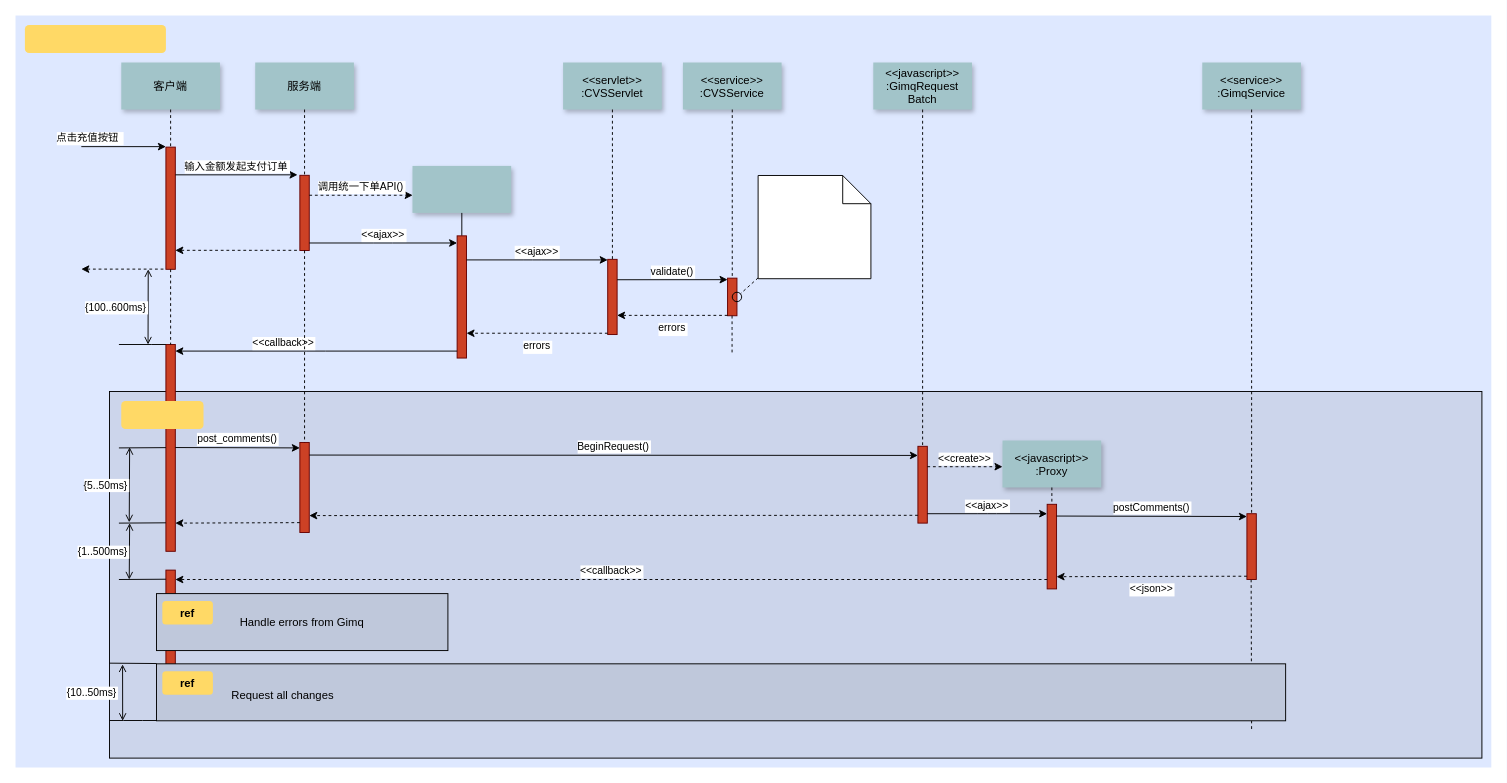
Some shapes in this 1507 by 783 pixel diagram are drawn without their labels. Each missing label, with the centre of its shape:
- user validation - password check: the point at 814,227
opt: the point at 162,414
发起余额充值: the point at 94,38
支付服务端: the point at 462,190
